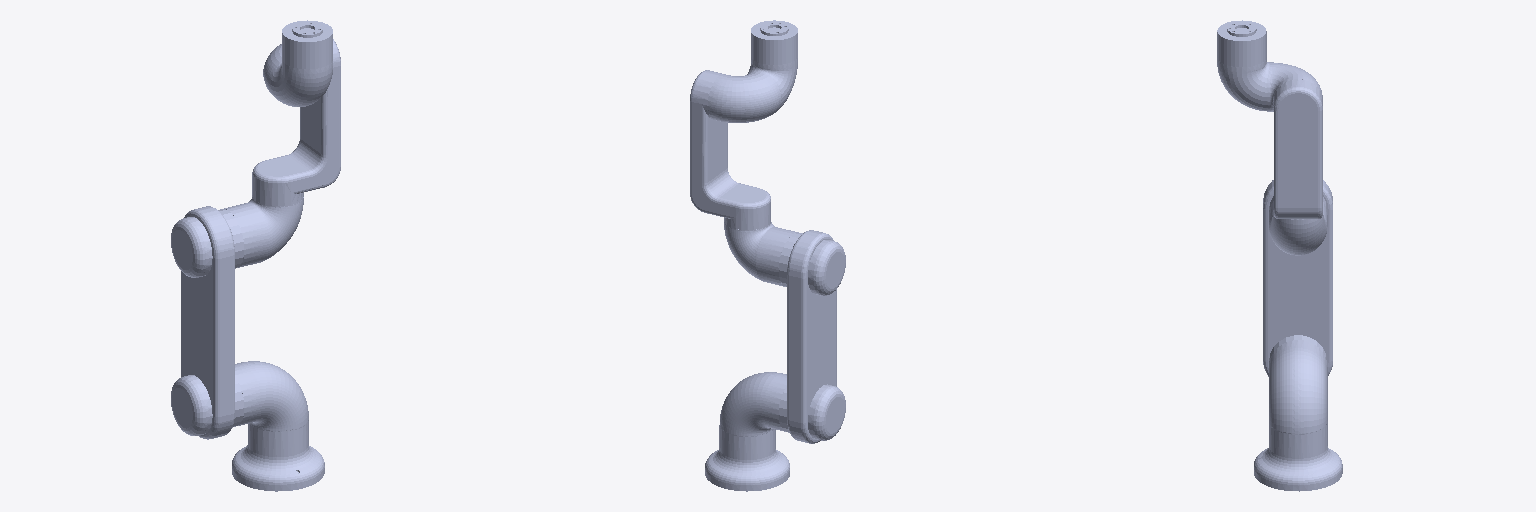
robot.urdf — OW_arm42v3:
<?xml version="1.0" encoding="utf-8"?>
<!-- This URDF was automatically created by SolidWorks to URDF Exporter! Originally created by [author] ([email redacted]) 
     Commit Version: 1.5.1-0-g916b5db  Build Version: 1.5.7152.31018
     For more information, please see http://wiki.ros.org/sw_urdf_exporter -->
<robot
  name="OW_arm42v3">
  <link
    name="base_link">
    <inertial>
      <origin
        xyz="3.8908E-17 0.04767 -7.8127E-06"
        rpy="0 0 0" />
      <mass
        value="2.0171" />
      <inertia
        ixx="0.005586"
        ixy="-1.0982E-17"
        ixz="1.3566E-18"
        iyy="0.0063123"
        iyz="-2.5055E-07"
        izz="0.0055872" />
    </inertial>
    <visual>
      <origin
        xyz="0 0 0"
        rpy="0 0 0" />
      <geometry>
        <mesh
          filename="package://OW_arm42v3/meshes/base_link.STL" />
      </geometry>
      <material
        name="">
        <color
          rgba="0.79216 0.81961 0.93333 1" />
      </material>
    </visual>
    <collision>
      <origin
        xyz="0 0 0"
        rpy="0 0 0" />
      <geometry>
        <mesh
          filename="package://OW_arm42v3/meshes/base_link.STL" />
      </geometry>
    </collision>
  </link>
  <link
    name="BS">
    <inertial>
      <origin
        xyz="-0.0380406710172112 0.0624222716437212 1.70200828973279E-07"
        rpy="0 0 0" />
      <mass
        value="1.97190888064709" />
      <inertia
        ixx="0.00429954770180157"
        ixy="0.00121409993044422"
        ixz="-2.33754900717327E-09"
        iyy="0.00586776056653254"
        iyz="-9.02195404940386E-10"
        izz="0.00632240174237383" />
    </inertial>
    <visual>
      <origin
        xyz="0 0 0"
        rpy="0 0 0" />
      <geometry>
        <mesh
          filename="package://OW_arm42v3/meshes/BS.STL" />
      </geometry>
      <material
        name="">
        <color
          rgba="0.792156862745098 0.819607843137255 0.933333333333333 1" />
      </material>
    </visual>
    <collision>
      <origin
        xyz="0 0 0"
        rpy="0 0 0" />
      <geometry>
        <mesh
          filename="package://OW_arm42v3/meshes/BS.STL" />
      </geometry>
    </collision>
  </link>
  <joint
    name="BJ"
    type="revolute">
    <origin
      xyz="0 0 0.1181"
      rpy="1.5708 0 0" />
    <parent
      link="base_link" />
    <child
      link="BS" />
    <axis
      xyz="0 1 0" />
    <limit
      lower="-2.1"
      upper="2.1"
      effort="0"
      velocity="0" />
    <safety_controller
      soft_upper_limit="2"
      soft_lower_limit="-2"
      k_velocity="0" />
  </joint>
  <link
    name="BE">
    <inertial>
      <origin
        xyz="-0.0518944125106651 0.177875 -3.45259213411031E-19"
        rpy="0 0 0" />
      <mass
        value="4.90664934838919" />
      <inertia
        ixx="0.119166306829544"
        ixy="7.12832856210159E-20"
        ixz="1.41170367633891E-19"
        iyy="0.0103792262587238"
        iyz="-6.6483117914141E-19"
        izz="0.114829512620447" />
    </inertial>
    <visual>
      <origin
        xyz="0 0 0"
        rpy="0 0 0" />
      <geometry>
        <mesh
          filename="package://OW_arm42v3/meshes/BE.STL" />
      </geometry>
      <material
        name="">
        <color
          rgba="0.792156862745098 0.819607843137255 0.933333333333333 1" />
      </material>
    </visual>
    <collision>
      <origin
        xyz="0 0 0"
        rpy="0 0 0" />
      <geometry>
        <mesh
          filename="package://OW_arm42v3/meshes/BE.STL" />
      </geometry>
    </collision>
  </link>
  <joint
    name="SJ"
    type="revolute">
    <origin
      xyz="-0.1157 0.0775 0"
      rpy="0 0 0" />
    <parent
      link="BS" />
    <child
      link="BE" />
    <axis
      xyz="1 0 0" />
    <limit
      lower="-1.6"
      upper="1.6"
      effort="0"
      velocity="0" />
    <safety_controller
      soft_upper_limit="1.57"
      soft_lower_limit="-1.57"
      k_velocity="0" />
  </joint>
  <link
    name="EW1">
    <inertial>
      <origin
        xyz="0.0709836520418711 0.00984606315843561 -3.12735130856287E-09"
        rpy="0 0 0" />
      <mass
        value="1.70811121792676" />
      <inertia
        ixx="0.003344964276941"
        ixy="-0.000815500724151719"
        ixz="-3.32971212844834E-10"
        iyy="0.00460394948553801"
        iyz="4.52826957155396E-10"
        izz="0.00490007893927466" />
    </inertial>
    <visual>
      <origin
        xyz="0 0 0"
        rpy="0 0 0" />
      <geometry>
        <mesh
          filename="package://OW_arm42v3/meshes/EW1.STL" />
      </geometry>
      <material
        name="">
        <color
          rgba="0.792156862745098 0.819607843137255 0.933333333333333 1" />
      </material>
    </visual>
    <collision>
      <origin
        xyz="0 0 0"
        rpy="0 0 0" />
      <geometry>
        <mesh
          filename="package://OW_arm42v3/meshes/EW1.STL" />
      </geometry>
    </collision>
  </link>
  <joint
    name="EJ"
    type="revolute">
    <origin
      xyz="0 0.35575 0"
      rpy="0 0 0" />
    <parent
      link="BE" />
    <child
      link="EW1" />
    <axis
      xyz="1 0 0" />
    <limit
      lower="-2.1"
      upper="2.1"
      effort="0"
      velocity="0" />
    <safety_controller
      soft_upper_limit="2"
      soft_lower_limit="-2"
      k_velocity="0" />
  </joint>
  <link
    name="W12">
    <inertial>
      <origin
        xyz="0.0708307470038271 0.130740197026429 -3.09886790789175E-07"
        rpy="0 0 0" />
      <mass
        value="2.15968468440729" />
      <inertia
        ixx="0.0234261873003578"
        ixy="-0.00584229346606452"
        ixz="-4.32903230711196E-08"
        iyy="0.00623786733512577"
        iyz="-7.26337149502994E-08"
        izz="0.026052830309967" />
    </inertial>
    <visual>
      <origin
        xyz="0 0 0"
        rpy="0 0 0" />
      <geometry>
        <mesh
          filename="package://OW_arm42v3/meshes/W12.STL" />
      </geometry>
      <material
        name="">
        <color
          rgba="0.792156862745098 0.819607843137255 0.933333333333333 1" />
      </material>
    </visual>
    <collision>
      <origin
        xyz="0 0 0"
        rpy="0 0 0" />
      <geometry>
        <mesh
          filename="package://OW_arm42v3/meshes/W12.STL" />
      </geometry>
    </collision>
  </link>
  <joint
    name="W1J"
    type="revolute">
    <origin
      xyz="0.1157 0.07 0"
      rpy="0 0 0" />
    <parent
      link="EW1" />
    <child
      link="W12" />
    <axis
      xyz="0 1 0" />
    <limit
      lower="-1.6"
      upper="1.6"
      effort="0"
      velocity="0" />
    <safety_controller
      soft_upper_limit="1.57"
      soft_lower_limit="-1.57"
      k_velocity="0" />
  </joint>
  <link
    name="W23">
    <inertial>
      <origin
        xyz="0.0103627029059784 0.00980076113119743 0.0597441688704256"
        rpy="0 0 0" />
      <mass
        value="1.83510738804944" />
      <inertia
        ixx="0.0071632177132756"
        ixy="0.000186368537764031"
        ixz="0.00118141035116698"
        iyy="0.00720216879798446"
        iyz="-0.0011338270543624"
        izz="0.00336114973585378" />
    </inertial>
    <visual>
      <origin
        xyz="0 0 0"
        rpy="0 0 0" />
      <geometry>
        <mesh
          filename="package://OW_arm42v3/meshes/W23.STL" />
      </geometry>
      <material
        name="">
        <color
          rgba="0.792156862745098 0.819607843137255 0.933333333333333 1" />
      </material>
    </visual>
    <collision>
      <origin
        xyz="0 0 0"
        rpy="0 0 0" />
      <geometry>
        <mesh
          filename="package://OW_arm42v3/meshes/W23.STL" />
      </geometry>
    </collision>
  </link>
  <joint
    name="W2J"
    type="revolute">
    <origin
      xyz="0 0.28575 0"
      rpy="0 0 0" />
    <parent
      link="W12" />
    <child
      link="W23" />
    <axis
      xyz="1 0 0" />
    <limit
      lower="-1.6"
      upper="2.1"
      effort="0"
      velocity="0" />
    <safety_controller
      soft_upper_limit="2"
      soft_lower_limit="-1.57"
      k_velocity="0" />
  </joint>
  <link
    name="W3Eff">
    <inertial>
      <origin
        xyz="-2.13404352369339E-20 0.0313987811298326 -7.81553174110383E-06"
        rpy="0 0 0" />
      <mass
        value="0.542656625657755" />
      <inertia
        ixx="0.000548242650538083"
        ixy="4.09479362245092E-22"
        ixz="7.11795743081048E-23"
        iyy="0.000736884379592923"
        iyz="1.40387237136961E-07"
        izz="0.000548348712436984" />
    </inertial>
    <visual>
      <origin
        xyz="0 0 0"
        rpy="0 0 0" />
      <geometry>
        <mesh
          filename="package://OW_arm42v3/meshes/W3Eff.STL" />
      </geometry>
      <material
        name="">
        <color
          rgba="0.792156862745098 0.819607843137255 0.933333333333333 1" />
      </material>
    </visual>
    <collision>
      <origin
        xyz="0 0 0"
        rpy="0 0 0" />
      <geometry>
        <mesh
          filename="package://OW_arm42v3/meshes/W3Eff.STL" />
      </geometry>
    </collision>
  </link>
  <joint
    name="W3J"
    type="revolute">
    <origin
      xyz="0 0.071 0.12"
      rpy="0 0 0" />
    <parent
      link="W23" />
    <child
      link="W3Eff" />
    <axis
      xyz="0 1 0" />
    <limit
      lower="-3.14"
      upper="3.14"
      effort="0"
      velocity="0" />
    <safety_controller
      soft_upper_limit="3.13"
      soft_lower_limit="-3.13"
      k_velocity="0" />
  </joint>
</robot>

--- What the picture shows (computed from the rendered views, not written in the file) ---
Views: 3 orthographic renders of the robot side by side, from view 1: azimuth 30°, elevation 25°; view 2: azimuth 150°, elevation 25°; view 3: azimuth 270°, elevation 25°.
Model OW_arm42v3 with 7 links and 6 joints (6 revolute), rooted at base_link, posed every joint at zero.
Visible links, largest first — view 1: BE, W12, base_link, BS, EW1, W23, W3Eff; view 2: BE, W12, W23, base_link, BS, EW1, W3Eff; view 3: BE, W12, BS, base_link, W23, W3Eff, EW1.
Boxes of the visible links, box(x1,y1,x2,y2) form: BE: box(171, 206, 243, 439); W12: box(252, 39, 340, 205); base_link: box(232, 421, 324, 491); BS: box(235, 361, 308, 431); EW1: box(224, 196, 303, 267); W23: box(263, 44, 332, 106); W3Eff: box(282, 20, 332, 68); BE: box(779, 230, 845, 443); W12: box(690, 70, 770, 229); W23: box(708, 57, 797, 122); base_link: box(705, 425, 789, 491); BS: box(720, 372, 786, 436); EW1: box(724, 222, 797, 286); W3Eff: box(751, 20, 797, 64); BE: box(1263, 180, 1332, 376); W12: box(1274, 79, 1322, 218); BS: box(1269, 340, 1327, 434); base_link: box(1254, 422, 1342, 491); W23: box(1217, 57, 1322, 111); W3Eff: box(1217, 20, 1266, 66); EW1: box(1269, 201, 1327, 255).
Size in the robot's own frame: 0.3475 by 0.2675 by 1.05 metres.
Meshes: 7 distinct files referenced, 7 mesh visuals loaded (7 binary STL).